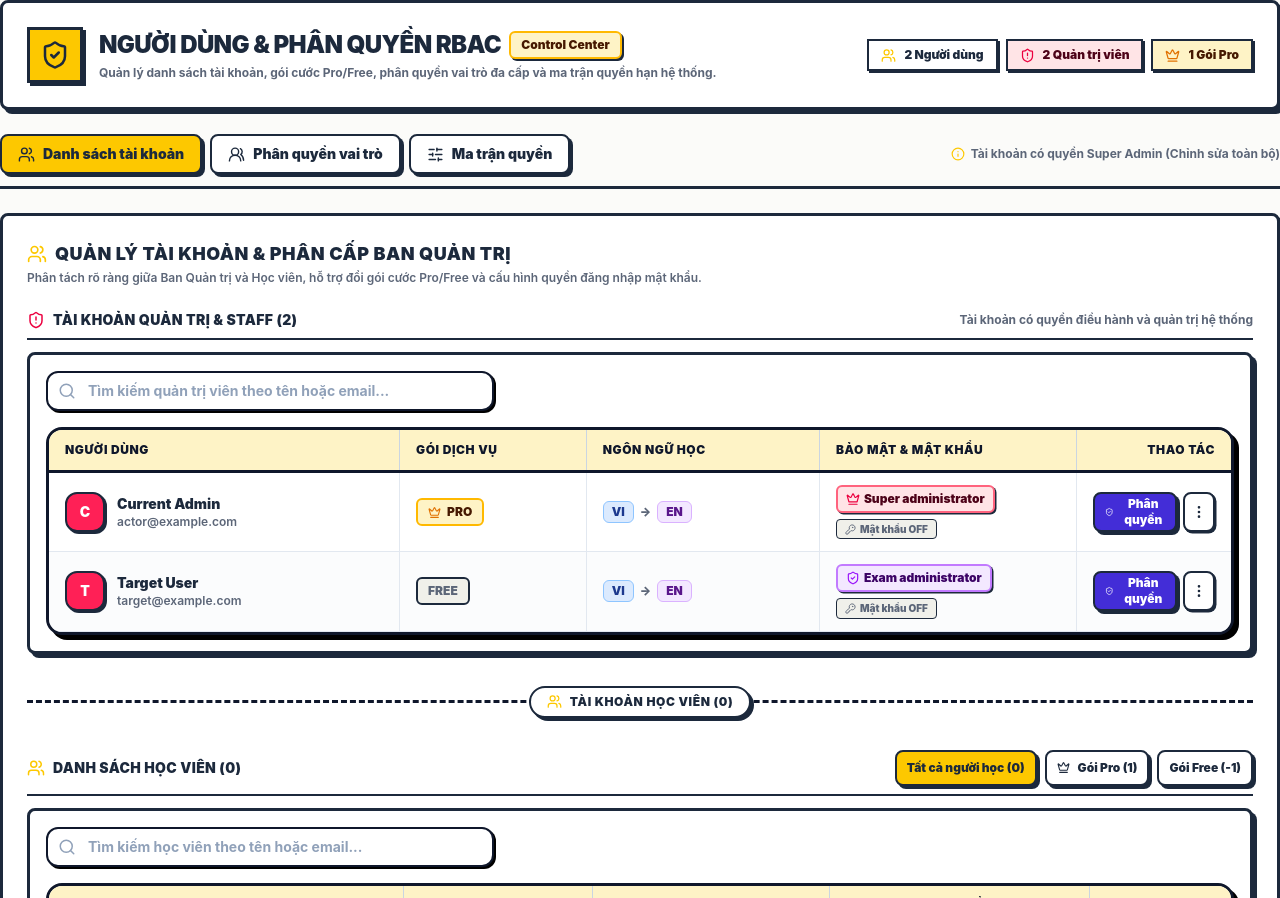
Test: AdminRolesPage › renders Tab 1 Accounts and allows opening RBAC role assignment modal
Expected: the button "Danh sách tài khoản" is shown, [0, 134, 202, 174]
Expected: the text "Target User" is shown, [117, 574, 198, 591]
Click the button with aria-label "phân quyền target user".
click(1135, 591)  # box [1093, 571, 1177, 611]
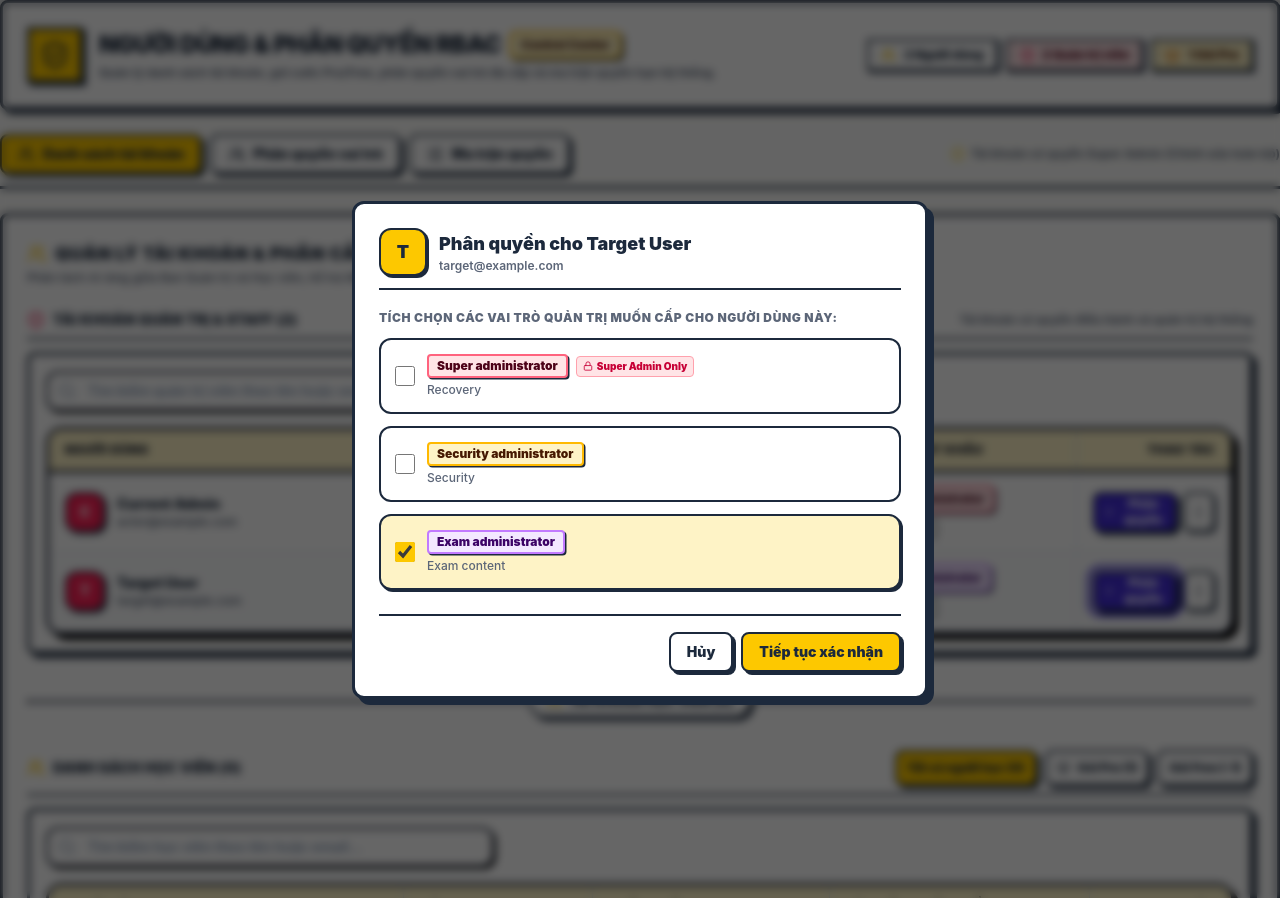
Expected: the checkbox labelled "Security administrator Security" is shown, [395, 454, 415, 474]
